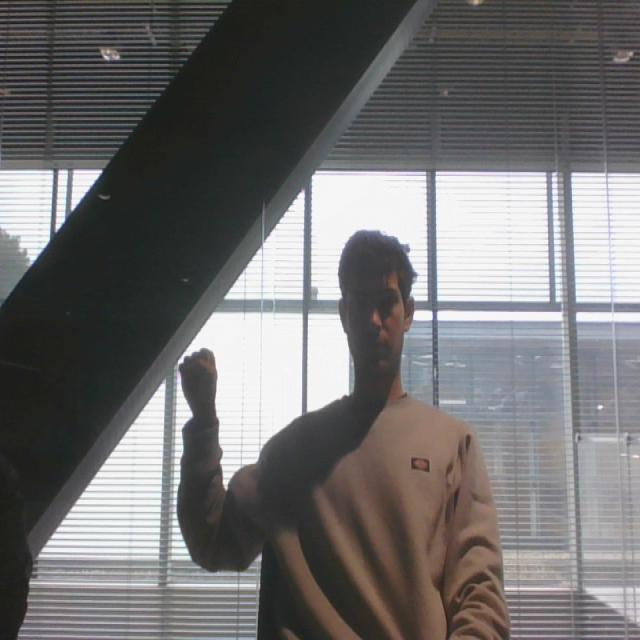stop: (172, 344, 220, 412)
